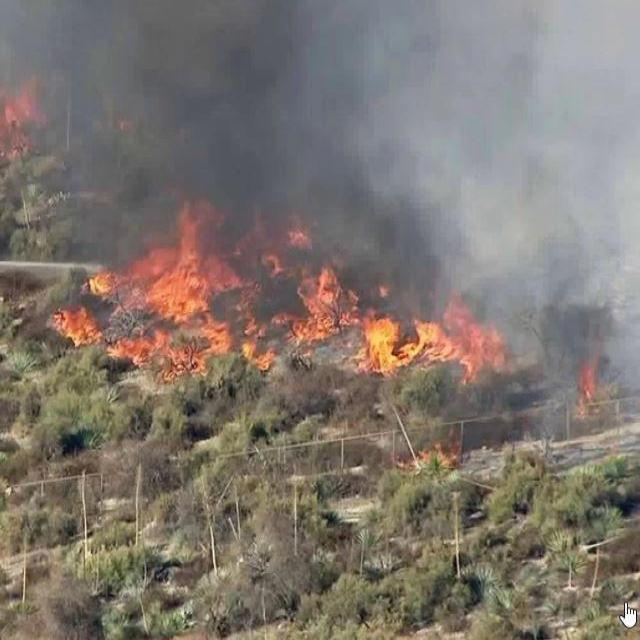Fire: (94, 204, 424, 386), (413, 297, 505, 385), (0, 79, 48, 158), (578, 361, 597, 414)
Smoke: (392, 0, 640, 230)
